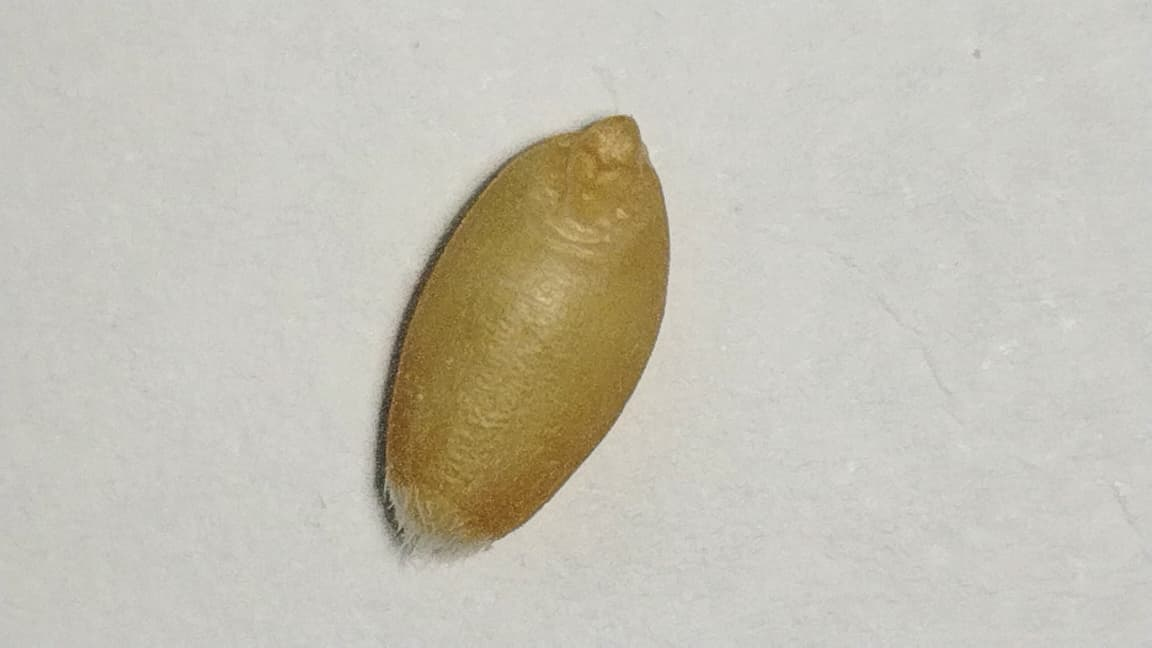healthy: (384, 116, 669, 547)
